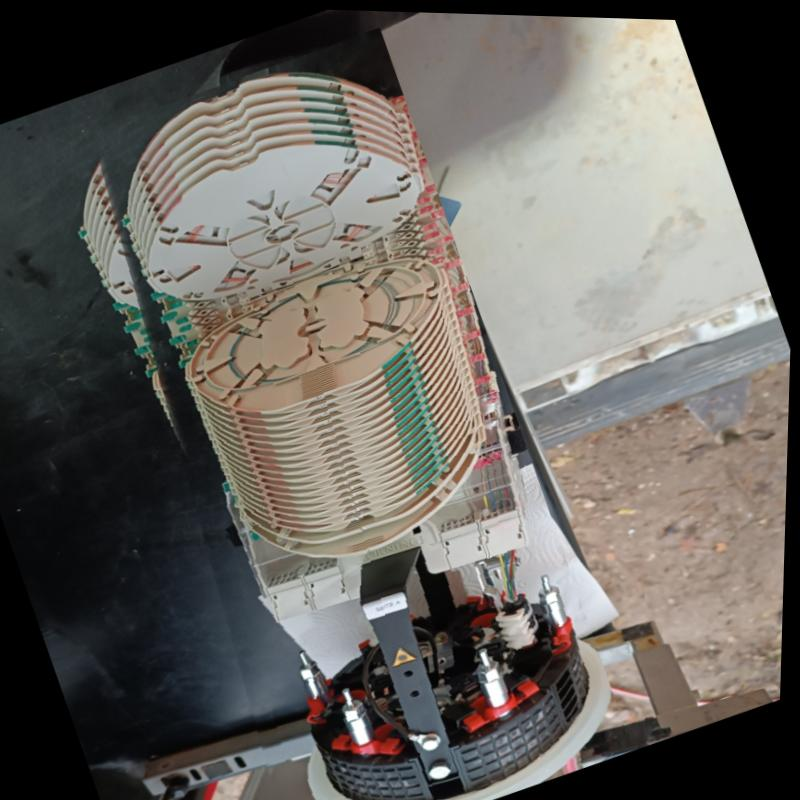NT-Muffen: (27, 17, 654, 800)
